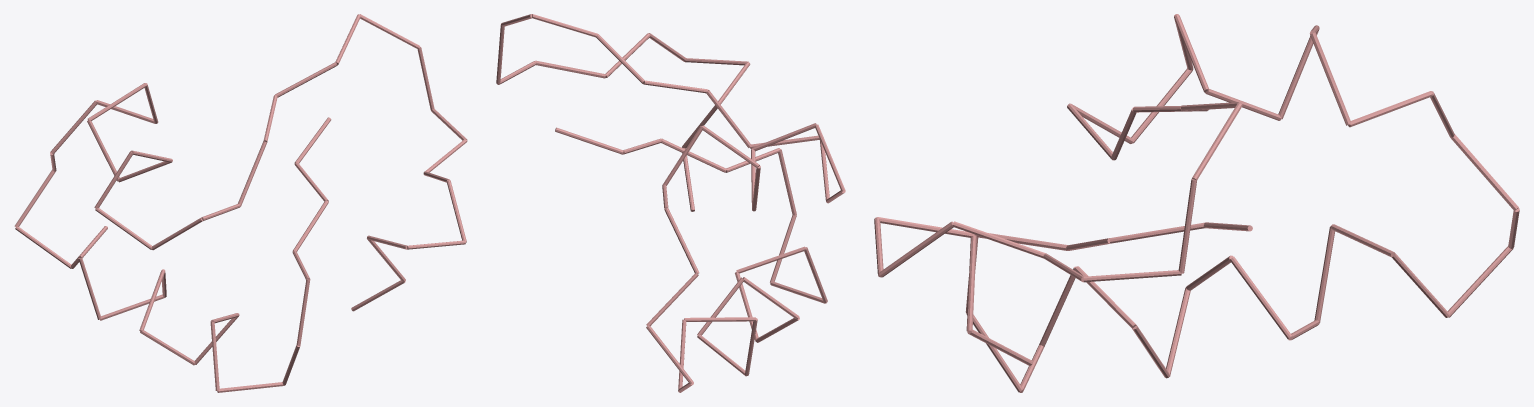
File: 1crn__ribbon__default.glb
3 renders of one model, left to right at view 1: azimuth 30°, elevation 25°; view 2: azimuth 150°, elevation 25°; view 3: azimuth 270°, elevation 25°, orthographic. The views are drawn at different scales.
Parts seen in each view (by area): view 1: Renderer Node; view 2: Renderer Node; view 3: Renderer Node.
Boxes of the visible parts, x1=… form: Renderer Node: x1=14, y1=14, x2=467, y2=392; Renderer Node: x1=496, y1=14, x2=845, y2=392; Renderer Node: x1=874, y1=14, x2=1519, y2=392.
Bounding box in the file's own units: 21.52 × 17.47 × 25.09.
